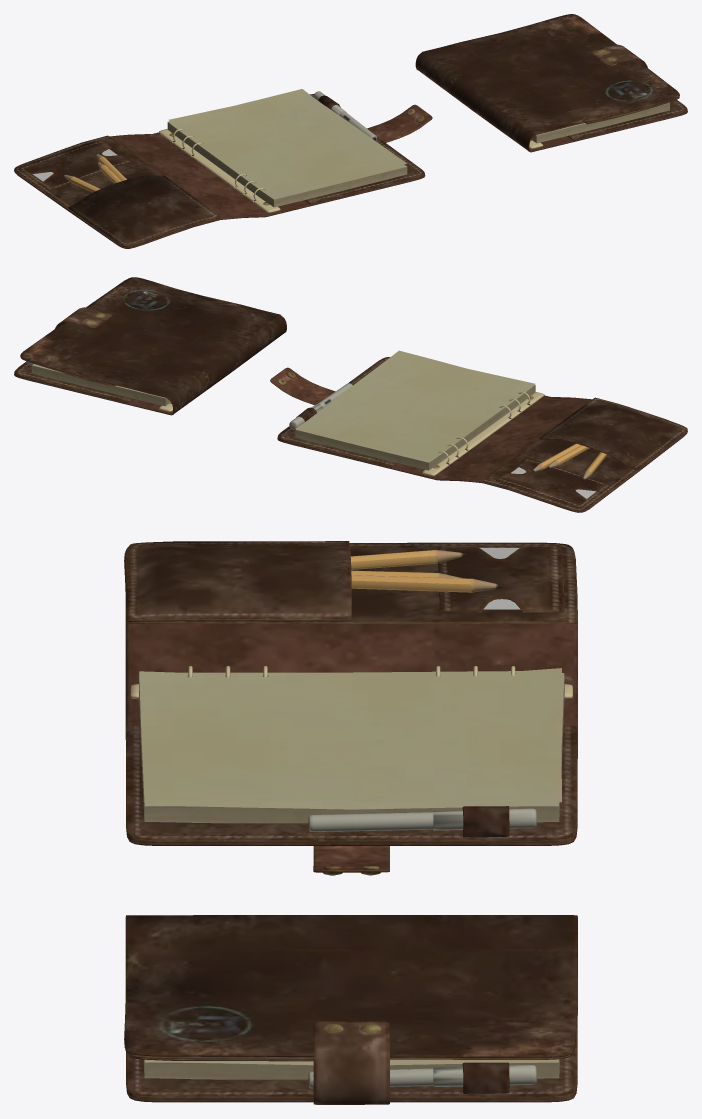
Rendered from binder_notebook.glb.
3 renders of one model, top to bottom at view 1: azimuth 30°, elevation 25°; view 2: azimuth 150°, elevation 25°; view 3: azimuth 270°, elevation 25°, orthographic. The views are drawn at different scales.
Visible parts, largest first — view 1: binder_notebook; view 2: binder_notebook; view 3: binder_notebook.
Boxes of the visible parts, left/top/right/bottom form: binder_notebook: left=14, top=14, right=687, bottom=248; binder_notebook: left=14, top=277, right=687, bottom=512; binder_notebook: left=124, top=541, right=577, bottom=1104.
Bounding box in the file's own units: 0.584 × 0.0252 × 0.2.
Materials: 1 (1 with a texture image).
